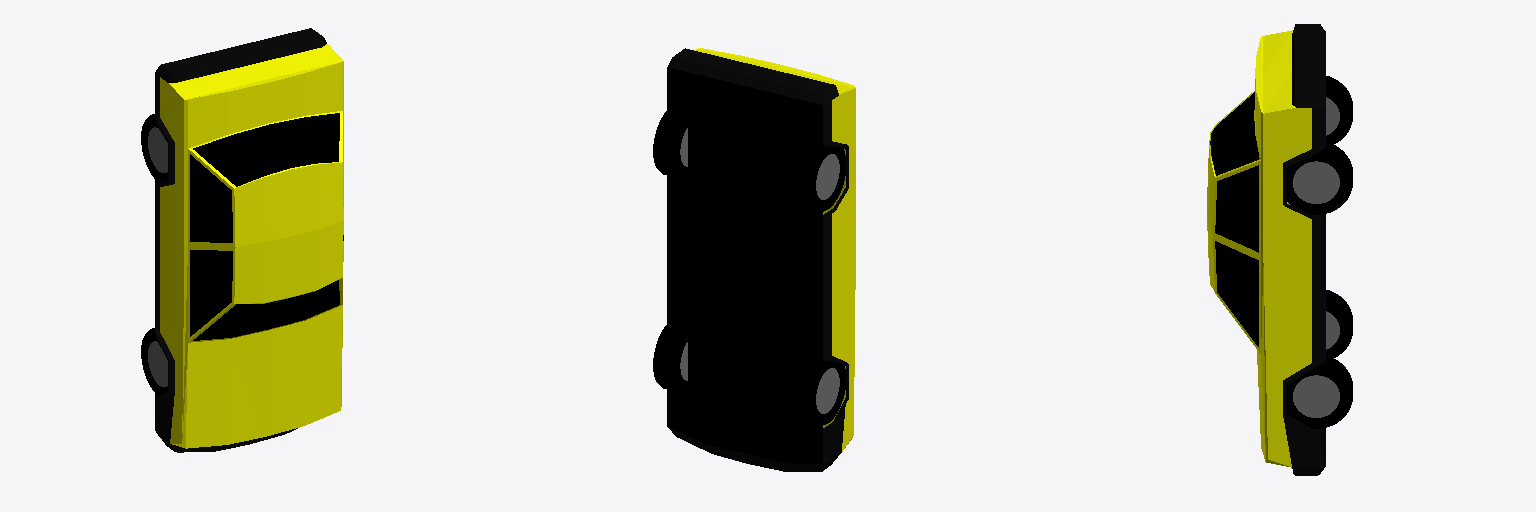
File: car-yellow1.obj
The picture shows the model from 3 angles: view 1: azimuth 30°, elevation 25°; view 2: azimuth 150°, elevation 25°; view 3: azimuth 270°, elevation 25°; orthographic projection.
Visible parts, largest first — view 1: Car_Cube; view 2: Car_Cube; view 3: Car_Cube.
Part boxes in pixels (x1,y1,x2,y2): Car_Cube: (141, 28, 343, 452); Car_Cube: (653, 48, 855, 471); Car_Cube: (1207, 24, 1352, 475).
Bounding box in the file's own units: 2.1 × 4.67 × 1.59.